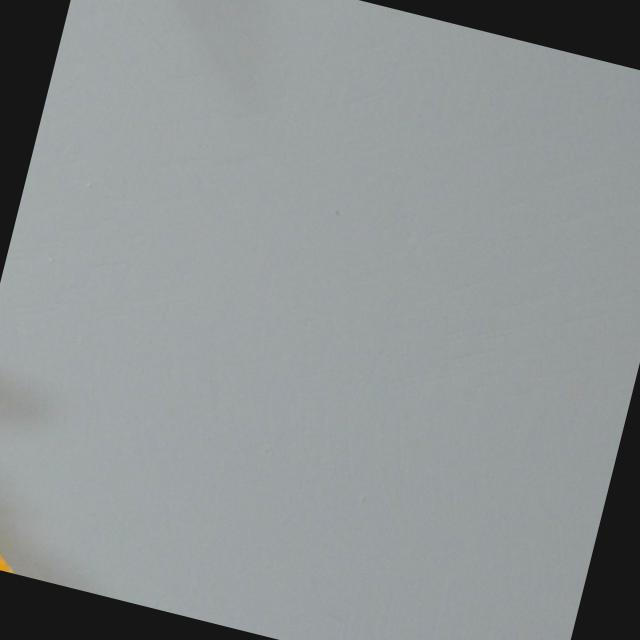pelicula: (0, 518, 41, 577)
